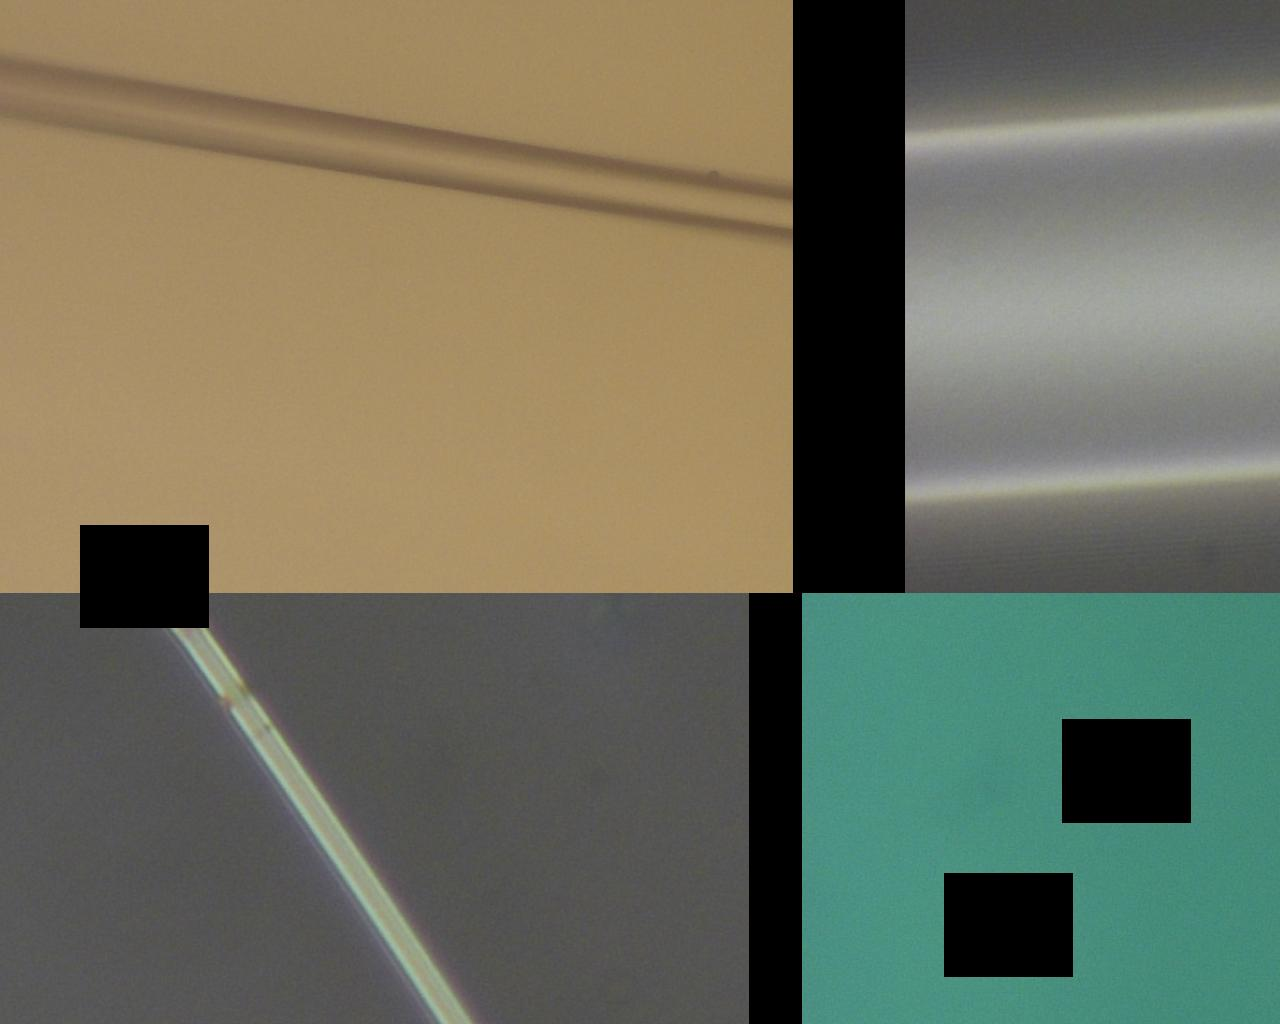fiber: (623, 409, 874, 1024), (0, 46, 521, 151), (510, 409, 614, 745), (614, 351, 1251, 401)
